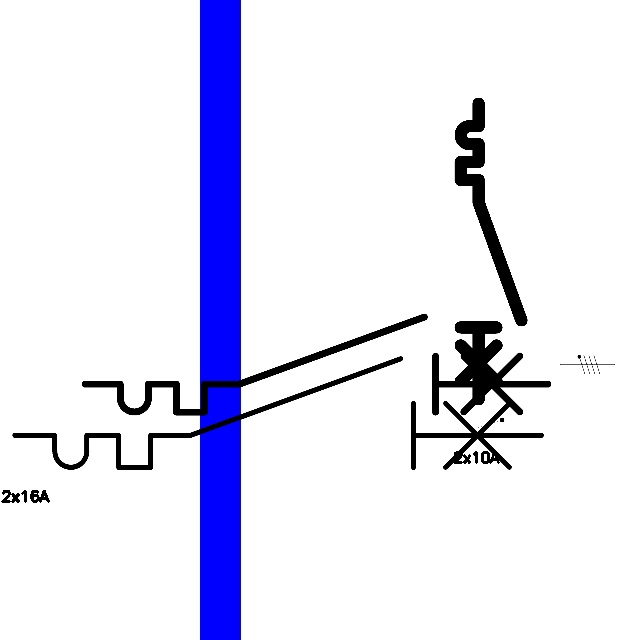interruptor_termomagnetico: (1, 345, 555, 481), (73, 305, 559, 424), (453, 96, 529, 407)
